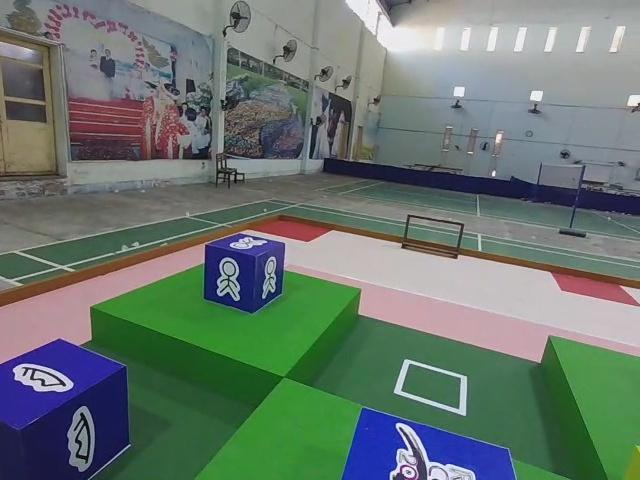R1 Blue: (334, 408, 522, 479)
R2 Real Blue: (2, 341, 132, 480), (200, 234, 284, 316)
